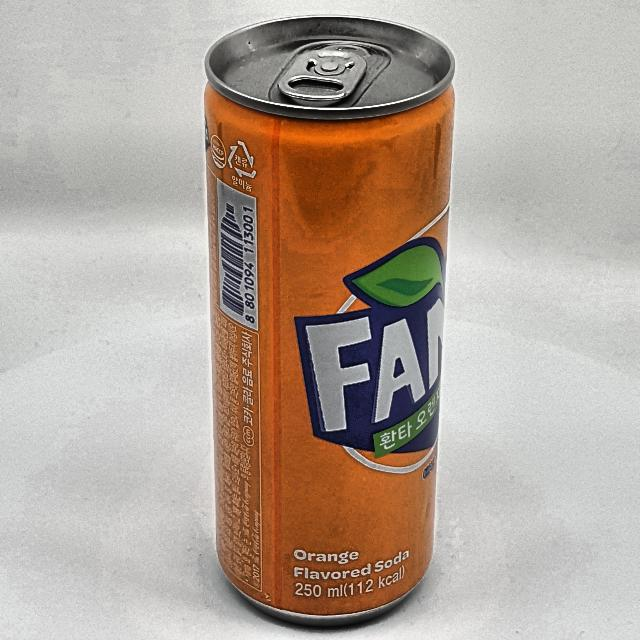fantaorange: (201, 4, 454, 635)
